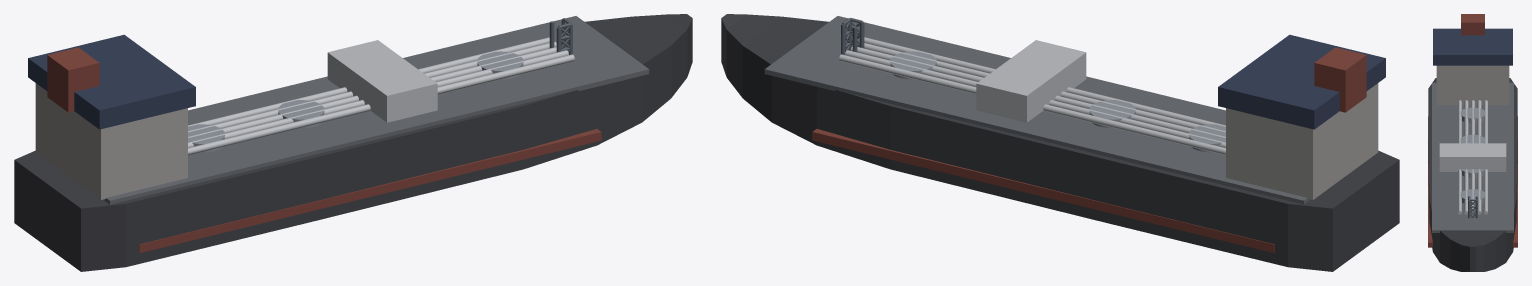
File: port_ship_tanker_lvl1.glb
The picture shows the model from 3 angles, left to right: view 1: azimuth 30°, elevation 25°; view 2: azimuth 150°, elevation 25°; view 3: azimuth 270°, elevation 25°; orthographic projection. The views are drawn at different scales.
Visible parts, largest first — view 1: port_ship_tanker; view 2: port_ship_tanker; view 3: port_ship_tanker.
Part boxes in pixels (box(x1,y1,x2,y2)): port_ship_tanker: box(14, 14, 692, 271); port_ship_tanker: box(721, 14, 1399, 271); port_ship_tanker: box(1428, 14, 1517, 271).
Size of the model in its own units: 0.3836 by 0.1041 by 0.083.
